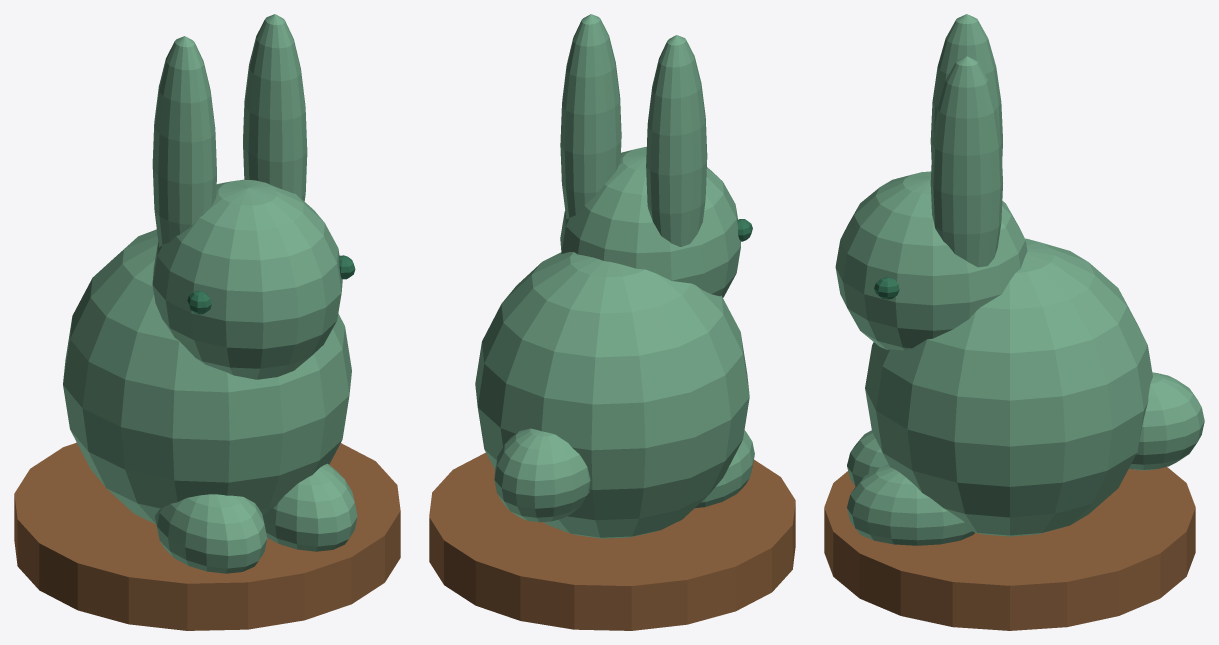
The model's file is scendance-plan-cn-jade-rabbit.glb.
3 renders of one model, left to right at view 1: azimuth 30°, elevation 25°; view 2: azimuth 150°, elevation 25°; view 3: azimuth 270°, elevation 25°, orthographic. The views are drawn at different scales.
Size of the model in its own units: 0.164 by 0.252 by 0.168.
